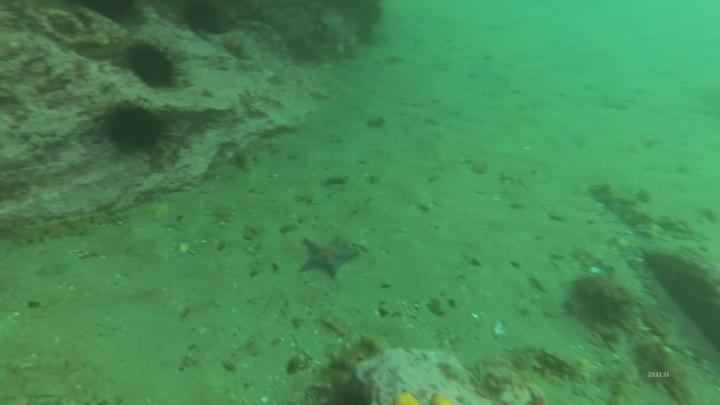echinus: (104, 101, 170, 166), (119, 37, 180, 91)
starfish: (302, 234, 361, 282)
